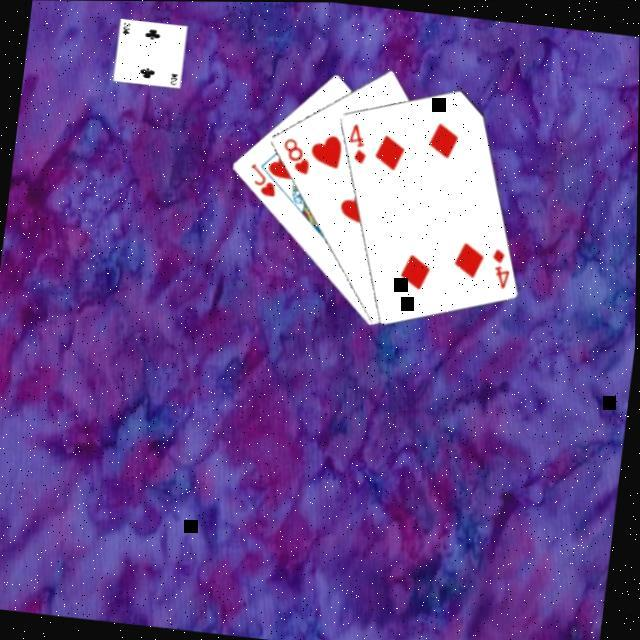4D: (485, 242, 515, 290), (342, 119, 371, 165)
8H: (275, 131, 314, 176)
JH: (242, 158, 280, 199)
